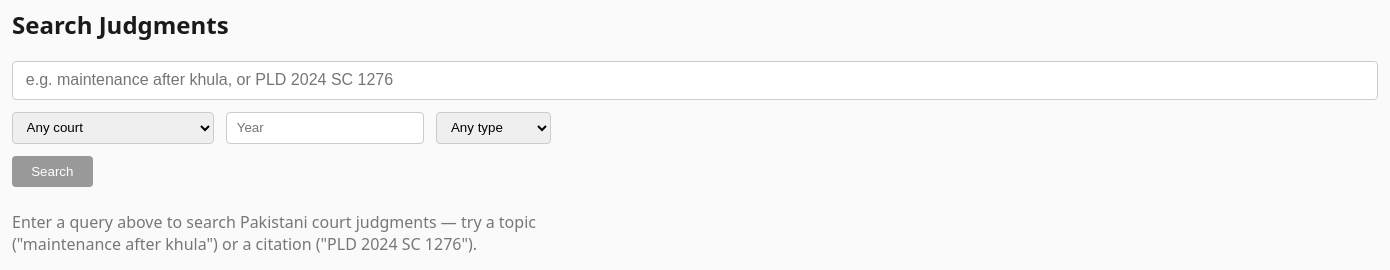
Test: shows error message when search fails
The width and height of the screenshot is (1390, 270).
Type "test" into the field named "Search query" at (695, 80), box [12, 61, 1378, 100]
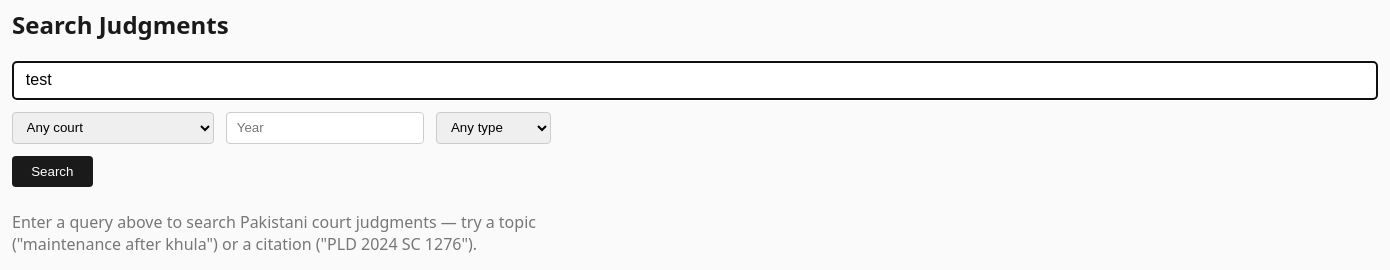
Click the button "Search" at (52, 171), box [12, 156, 93, 187]
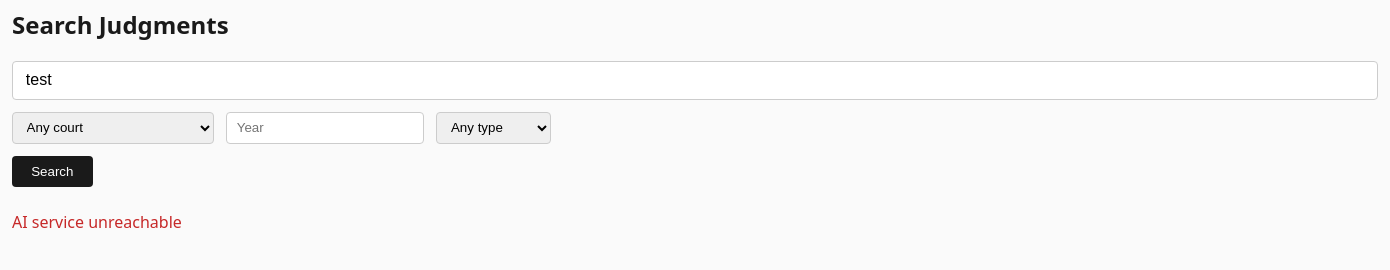
Now the text "AI service unreachable" is shown, box [12, 211, 182, 233]
